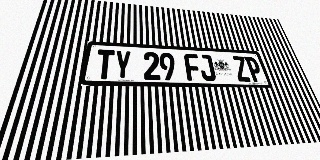2: (144, 52, 160, 80)
9: (159, 52, 177, 80)
F: (184, 54, 202, 81)
J: (198, 54, 217, 81)
P: (244, 57, 264, 82)
T: (95, 49, 115, 79)
Y: (113, 50, 131, 80)
Z: (231, 56, 252, 82)
